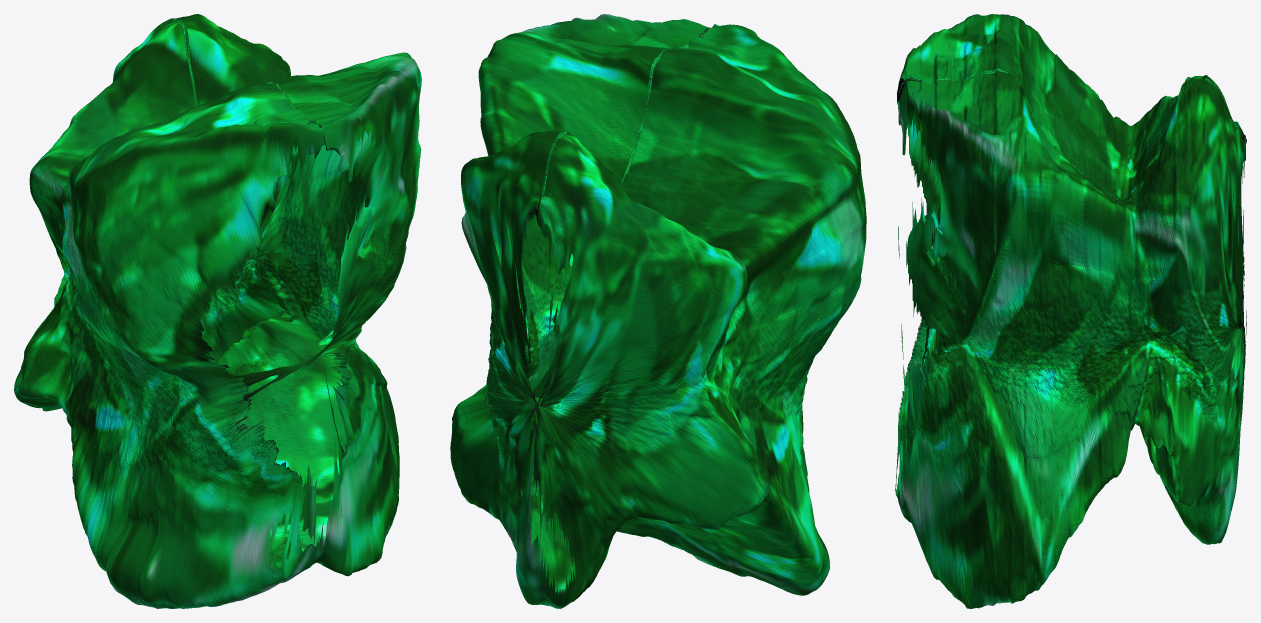
The picture shows the model from 3 angles, left to right: view 1: azimuth 30°, elevation 25°; view 2: azimuth 150°, elevation 25°; view 3: azimuth 270°, elevation 25°; orthographic projection. The views are drawn at different scales.
Parts seen in each view (by area): view 1: geometry_0; view 2: geometry_0; view 3: geometry_0.
Boxes of the visible parts, x1,y1,x2,y2 form: geometry_0: (14, 14, 421, 608); geometry_0: (450, 14, 866, 608); geometry_0: (895, 14, 1246, 608).
Size of the model in its own units: 1.3 by 1.75 by 1.11.
1 material, 1 textured.
